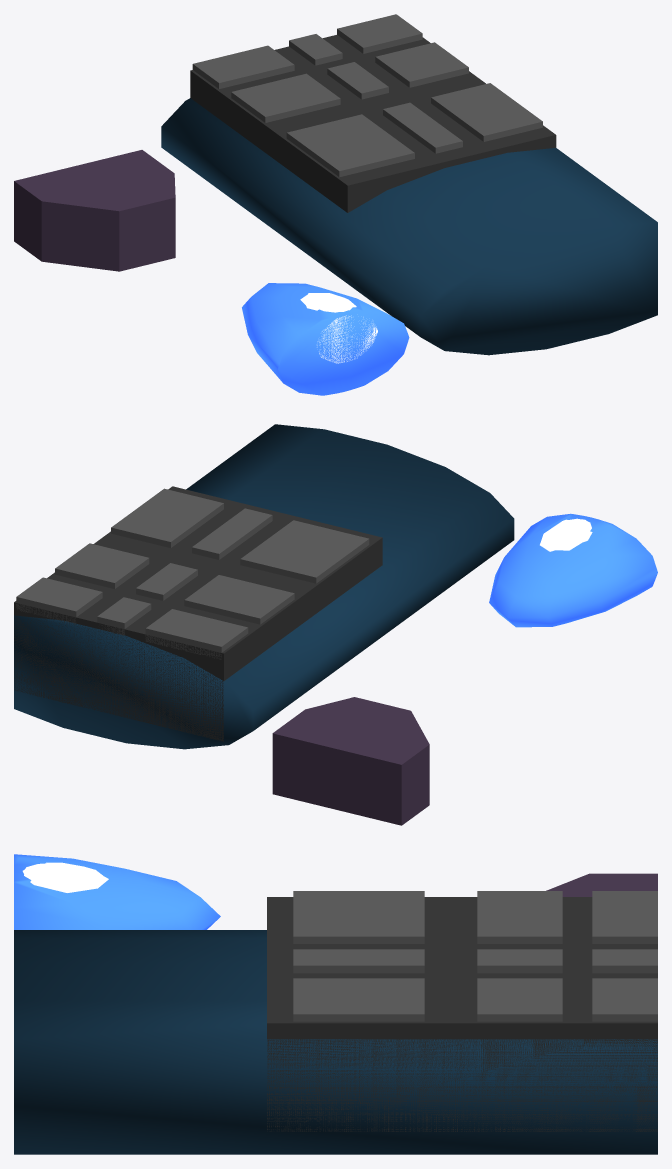
Rendered from newshb-41.glb.
The picture shows the model from 3 angles, top to bottom: view 1: azimuth 30°, elevation 25°; view 2: azimuth 150°, elevation 25°; view 3: azimuth 270°, elevation 25°; orthographic projection. The views are drawn at different scales.
Visible parts, largest first — view 1: newshb-41; view 2: newshb-41; view 3: newshb-41.
Boxes of the visible parts, <box> form: newshb-41: <box>14,14,657,395</box>; newshb-41: <box>14,424,657,825</box>; newshb-41: <box>14,854,657,1154</box>.
Size of the model in its own units: 2 by 0.665 by 2.33.
